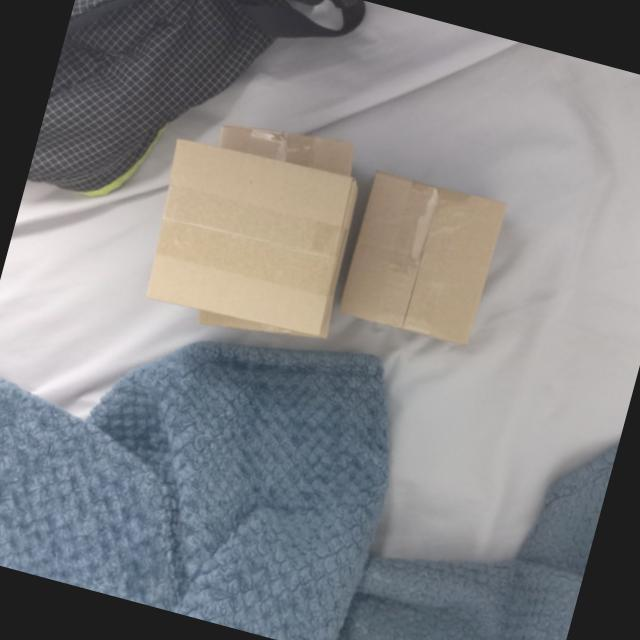box: (130, 126, 368, 352), (328, 160, 514, 356)
